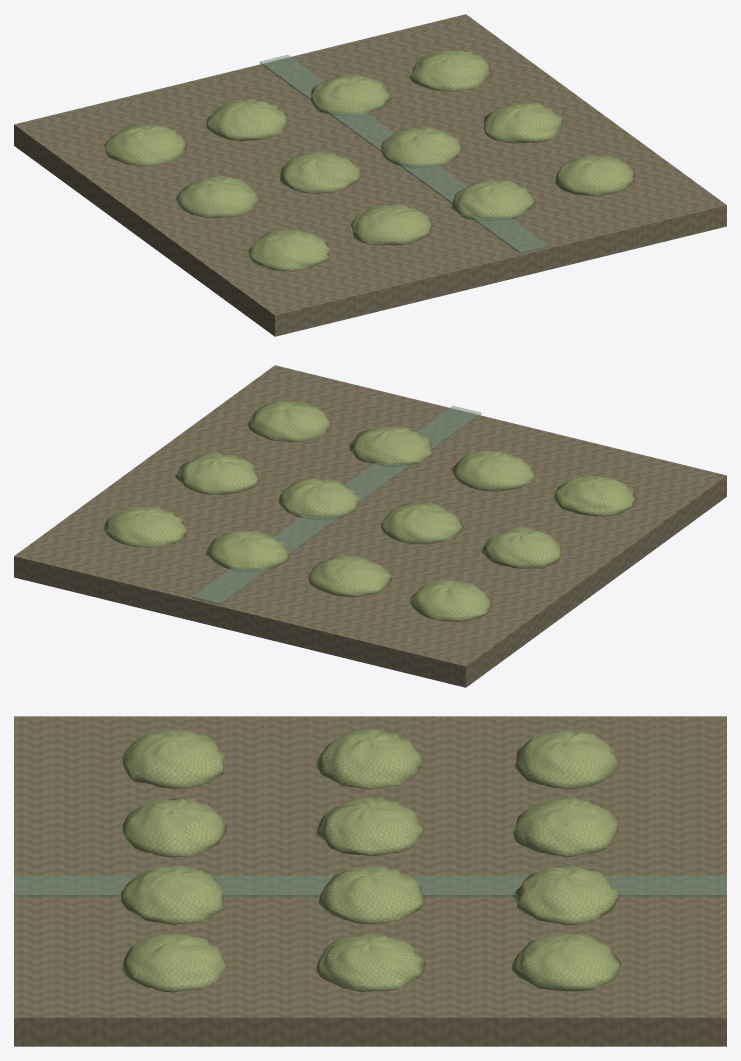
The model's file is quaking_bog_tile_swamp_and_mangrove_22640.glb.
3 renders of one model, top to bottom at view 1: azimuth 30°, elevation 25°; view 2: azimuth 150°, elevation 25°; view 3: azimuth 270°, elevation 25°, orthographic. The views are drawn at different scales.
Visible parts, largest first — view 1: quaking-bog-tile; view 2: quaking-bog-tile; view 3: quaking-bog-tile.
Boxes of the visible parts, x1,y1,x2,y2 form: quaking-bog-tile: (14, 14, 726, 336); quaking-bog-tile: (14, 365, 726, 687); quaking-bog-tile: (14, 716, 726, 1046).
Size of the model in its own units: 4 by 0.3503 by 4.
Materials: 3 (2 with a texture image).
